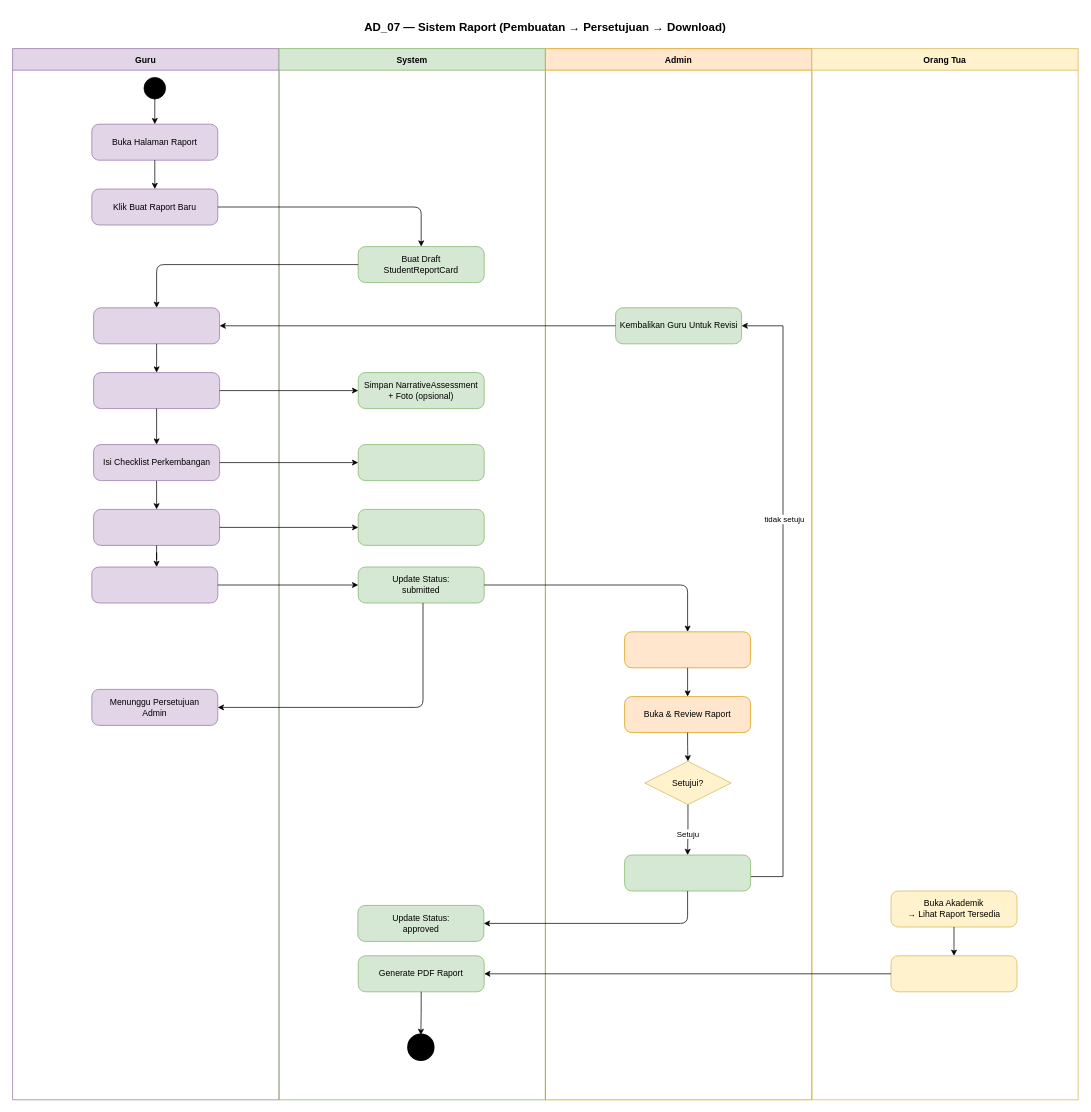
This 1091x1112 diagram has some shape labels left out. The shapes that lost their labels are listed below. From the top down, each one's centre as x and y in pixels, then its label:
the point at 156,325: Pilih Siswa & Periode Akademik
the point at 156,390: Isi Narasi Akademik & Kokurikuler
the point at 420,462: Simpan Checklist Assessment
the point at 156,527: Isi Pengukuran Fisik & Kondisi Kesehatan
the point at 420,527: Simpan Physical Measurement & Health
the point at 154,584: Submit Raport
the point at 687,649: Lihat Daftar Raport Status: Submitted
the point at 687,872: Klik Approve
the point at 953,973: Klik Download PDF
